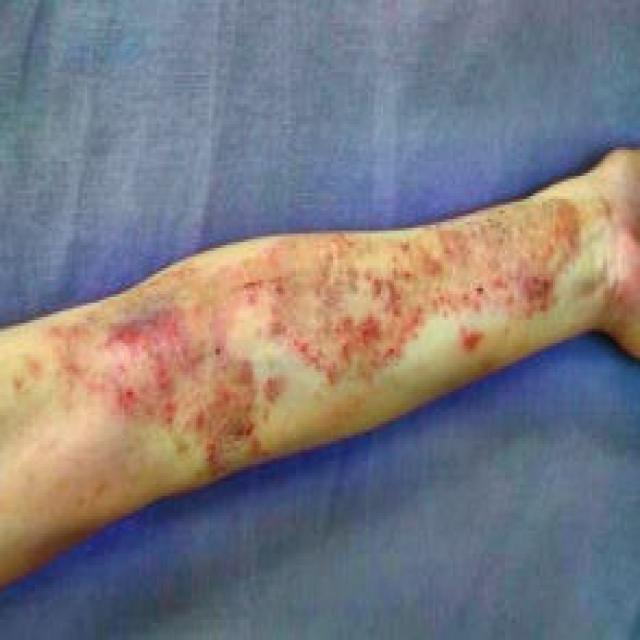Atopic-Dermatitis: (1, 150, 640, 586)
